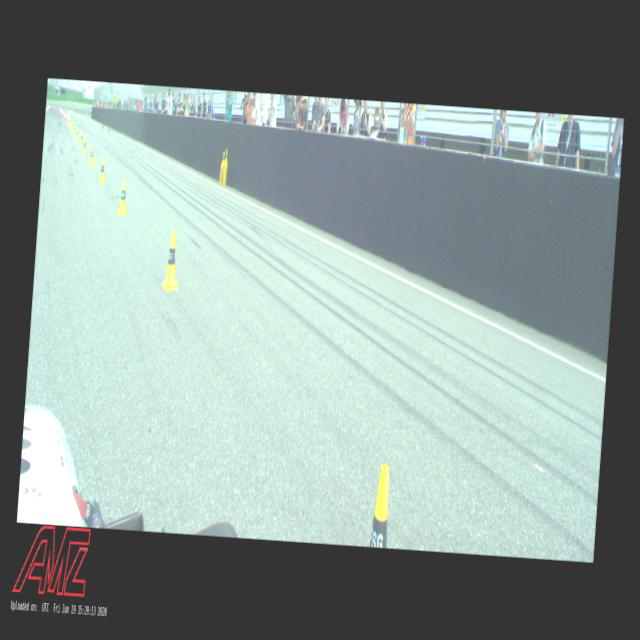yellow_cone: (367, 463, 393, 548), (161, 229, 182, 291), (117, 178, 128, 216), (98, 156, 106, 184), (88, 144, 95, 164), (78, 131, 84, 146), (82, 136, 87, 152), (220, 150, 225, 166), (224, 148, 228, 164), (75, 127, 79, 140), (70, 120, 74, 130), (68, 116, 72, 125), (72, 124, 75, 134)
